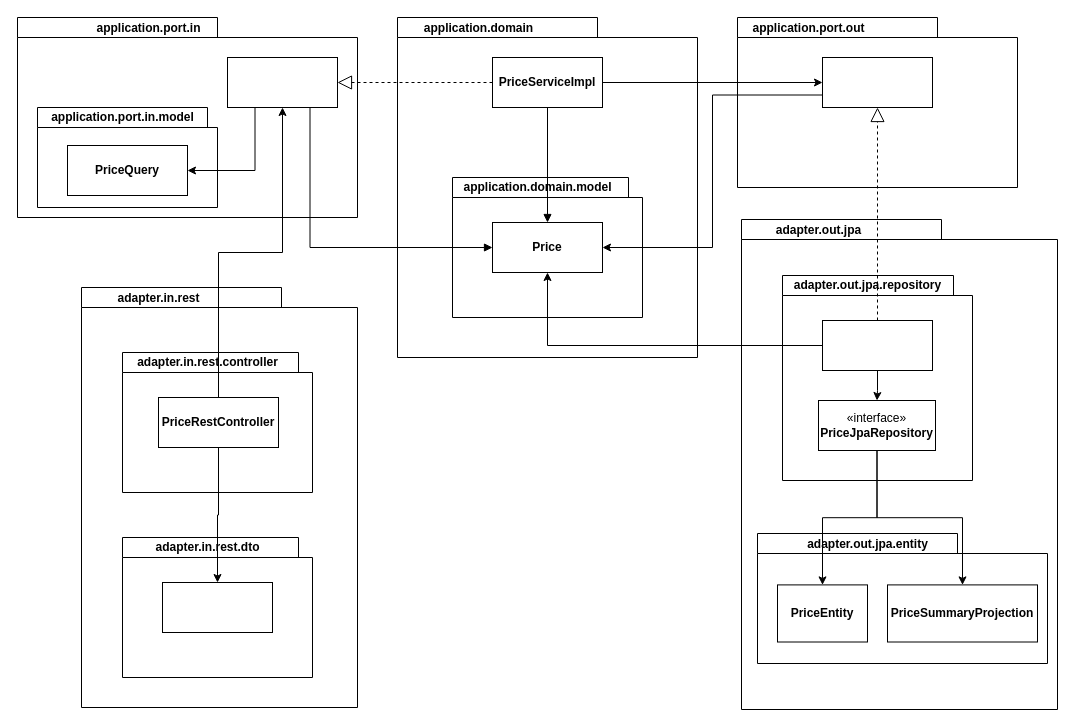
Image size: 1075x727. Some labels were removed from this diagram. Each missing label, with the centre of its shape:
PriceDTO: the point at 217,607
PriceJpaAdapter: the point at 877,345
«interface» PriceRepository: the point at 877,82
«interface» PriceService: the point at 282,82
